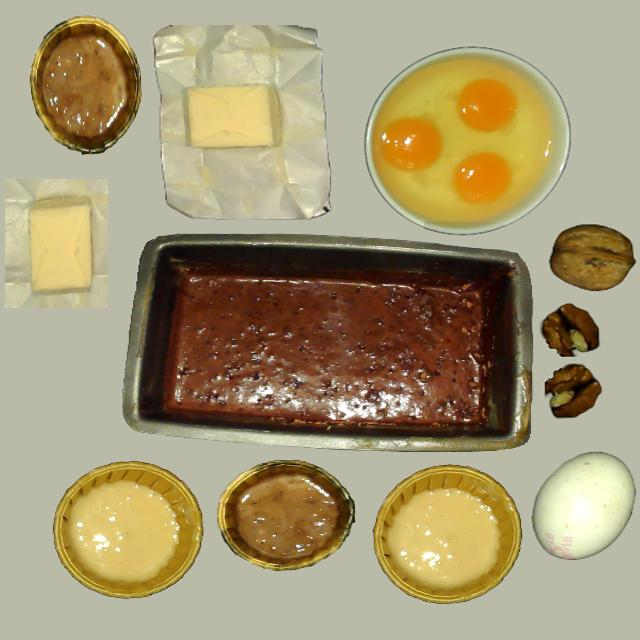Egg: (380, 118, 441, 172), (457, 80, 518, 132), (452, 152, 512, 204)
Walnut: (550, 224, 634, 291)
